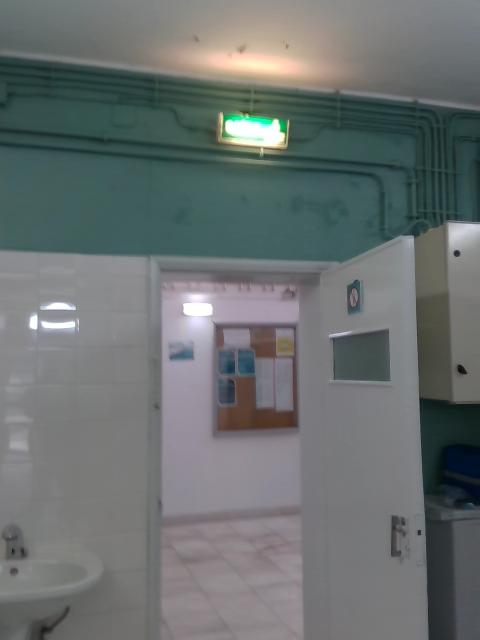open_door: (149, 253, 339, 638)
